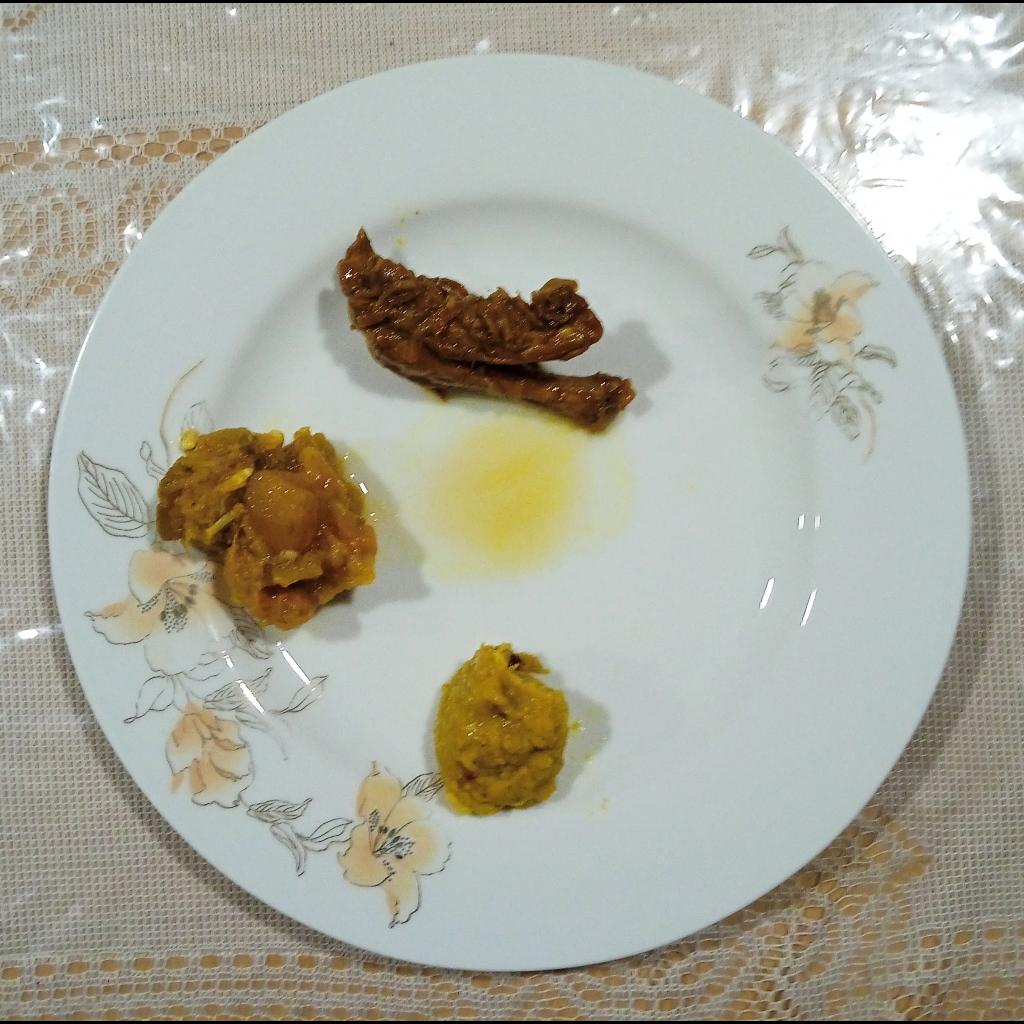kumra-vaji: (155, 426, 381, 636)
